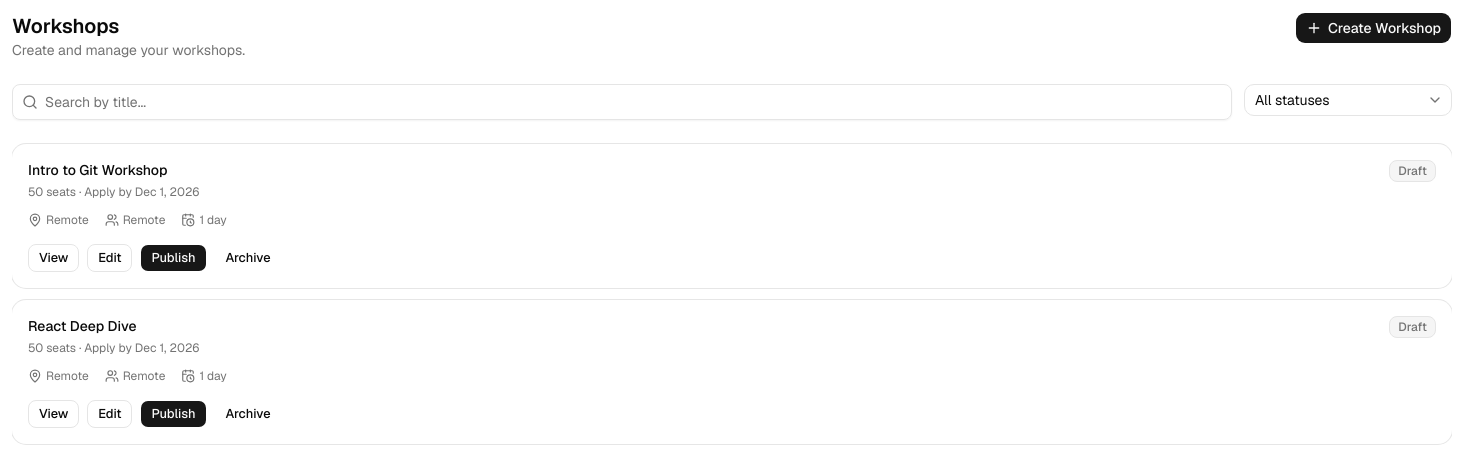
it: WorkshopsListView › filters by search text
The width and height of the screenshot is (1464, 462).
Expected: the link "Intro to Git Workshop" is shown, [28,161,168,179]
Type "react" into the field named "Search workshops".
click(622, 102); type("react")  # box [12,84,1232,120]
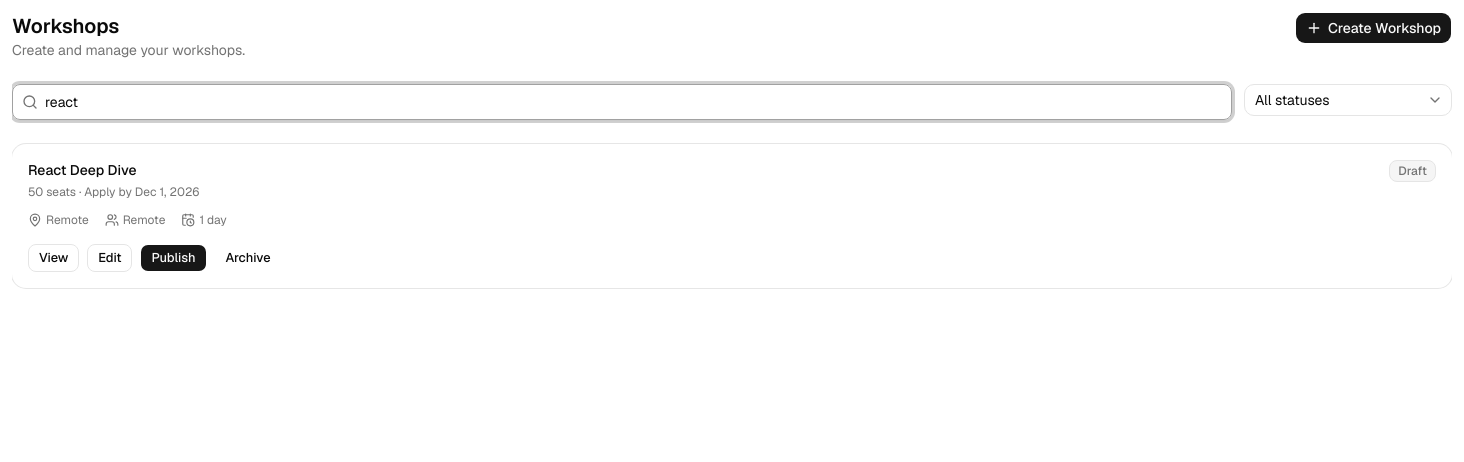
Expected: the link "React Deep Dive" is shown, [28,161,136,179]
Expected: the link "Intro to Git Workshop" is gone
